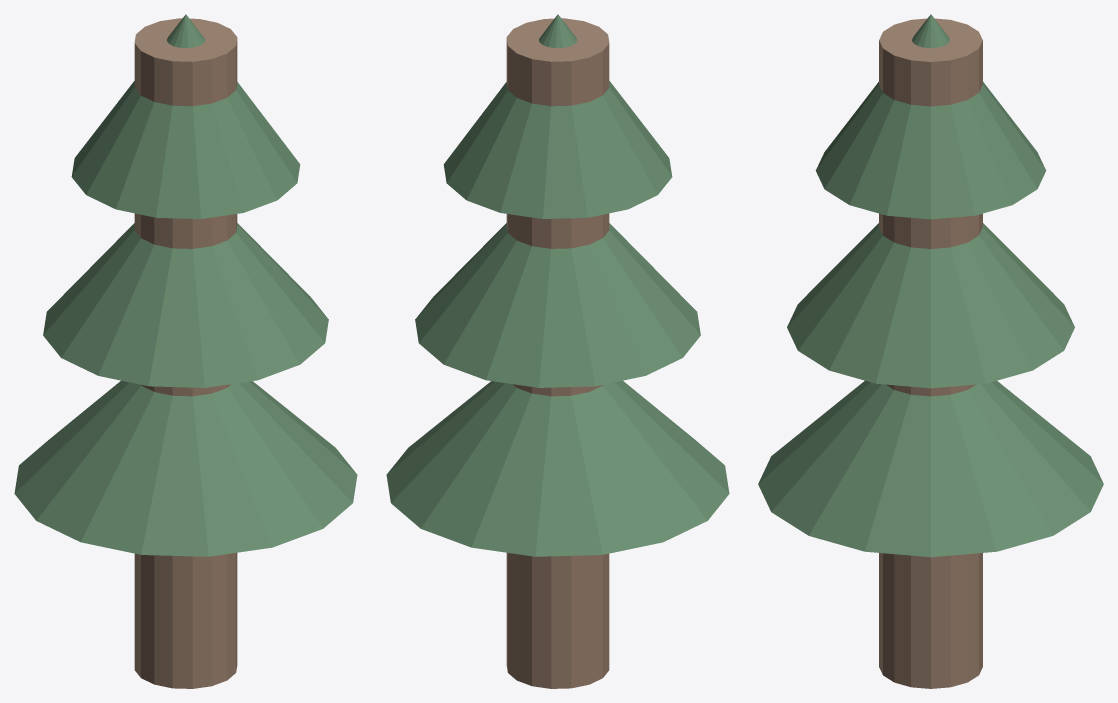
Rendered from pine_growing.glb.
3 renders of one model, left to right at view 1: azimuth 30°, elevation 25°; view 2: azimuth 150°, elevation 25°; view 3: azimuth 270°, elevation 25°, orthographic.
Visible parts, largest first — view 1: Pine_Growing_Layer_1, Pine_Growing_Layer_2, Pine_Growing_Trunk, Pine_Growing_Layer_3; view 2: Pine_Growing_Layer_1, Pine_Growing_Layer_2, Pine_Growing_Trunk, Pine_Growing_Layer_3; view 3: Pine_Growing_Layer_1, Pine_Growing_Layer_2, Pine_Growing_Trunk, Pine_Growing_Layer_3.
Boxes of the visible parts, x1,y1,x2,y2 form: Pine_Growing_Layer_1: [14, 380, 357, 556]; Pine_Growing_Layer_2: [43, 223, 328, 387]; Pine_Growing_Trunk: [134, 18, 237, 688]; Pine_Growing_Layer_3: [71, 14, 300, 218]; Pine_Growing_Layer_1: [386, 380, 729, 556]; Pine_Growing_Layer_2: [415, 223, 700, 387]; Pine_Growing_Trunk: [506, 18, 609, 688]; Pine_Growing_Layer_3: [443, 14, 672, 218]; Pine_Growing_Layer_1: [758, 380, 1103, 557]; Pine_Growing_Layer_2: [787, 223, 1074, 388]; Pine_Growing_Trunk: [879, 18, 982, 688]; Pine_Growing_Layer_3: [815, 14, 1046, 219].
Bounding box in the file's own units: 0.6 × 1.25 × 0.6.
